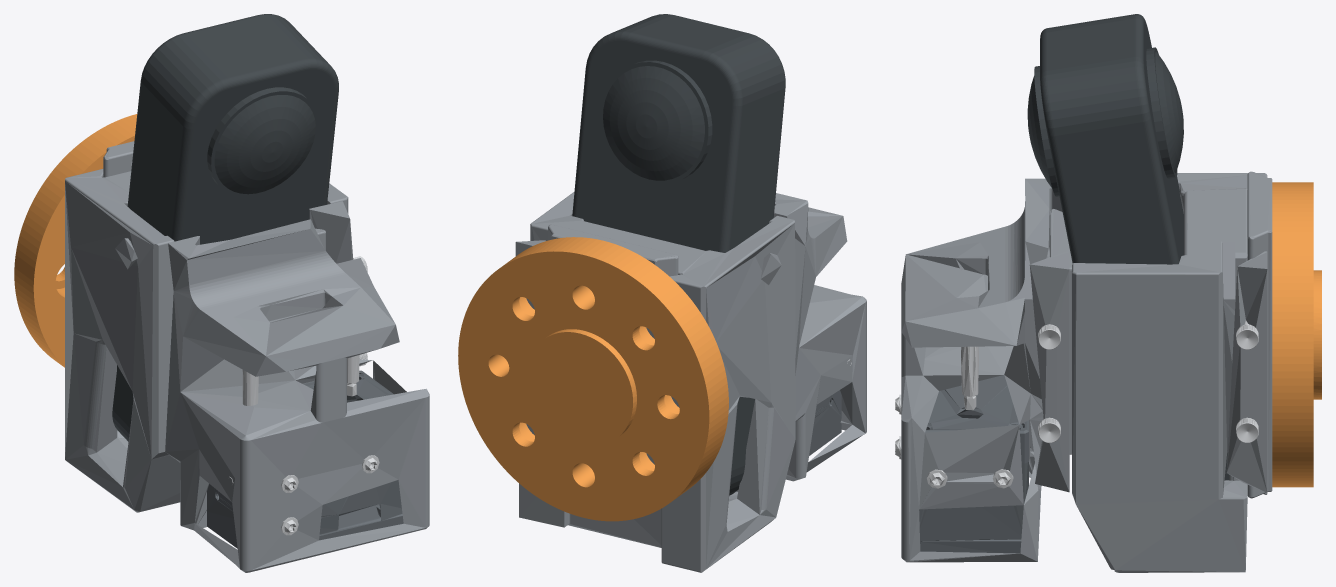
File: kiwi_mount.glb
3 views of the same model, side by side, from view 1: azimuth 30°, elevation 25°; view 2: azimuth 150°, elevation 25°; view 3: azimuth 270°, elevation 25° (orthographic). The views are drawn at different scales.
Visible parts, largest first — view 1: housing, camera, kuka_adapter, servo, fasteners; view 2: kuka_adapter, housing, camera, servo; view 3: housing, camera, kuka_adapter, servo, fasteners.
Boxes of the visible parts, x1=… form: housing: x1=65, y1=141, x2=429, y2=572; camera: x1=112, y1=14, x2=338, y2=441; kuka_adapter: x1=14, y1=114, x2=137, y2=367; servo: x1=207, y1=370, x2=403, y2=548; fasteners: x1=228, y1=256, x2=379, y2=535; kuka_adapter: x1=458, y1=237, x2=728, y2=521; housing: x1=515, y1=192, x2=866, y2=572; camera: x1=572, y1=14, x2=785, y2=495; servo: x1=809, y1=390, x2=841, y2=455; housing: x1=901, y1=171, x2=1272, y2=572; camera: x1=1027, y1=14, x2=1229, y2=480; kuka_adapter: x1=1272, y1=182, x2=1321, y2=487; servo: x1=919, y1=375, x2=1028, y2=553; fasteners: x1=895, y1=320, x2=1258, y2=488.
Bounding box in the file's own units: 0.074 × 0.1302 × 0.1035.
